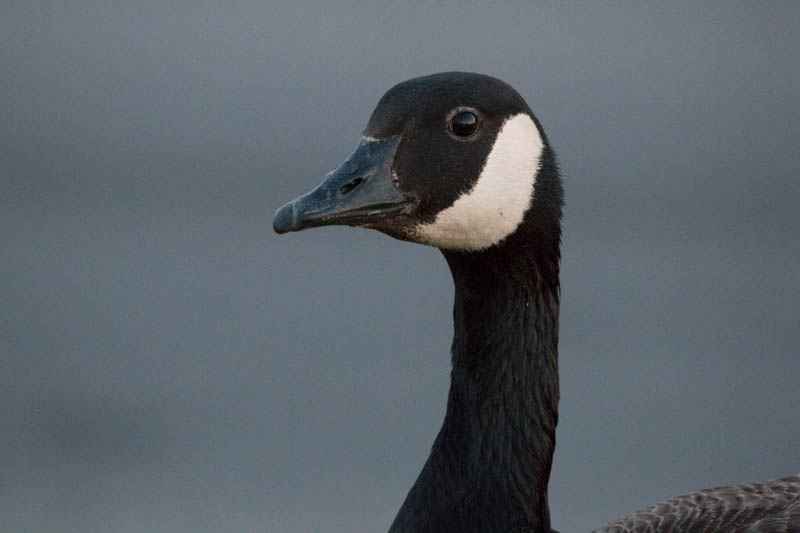goose-head: (271, 69, 562, 253)
